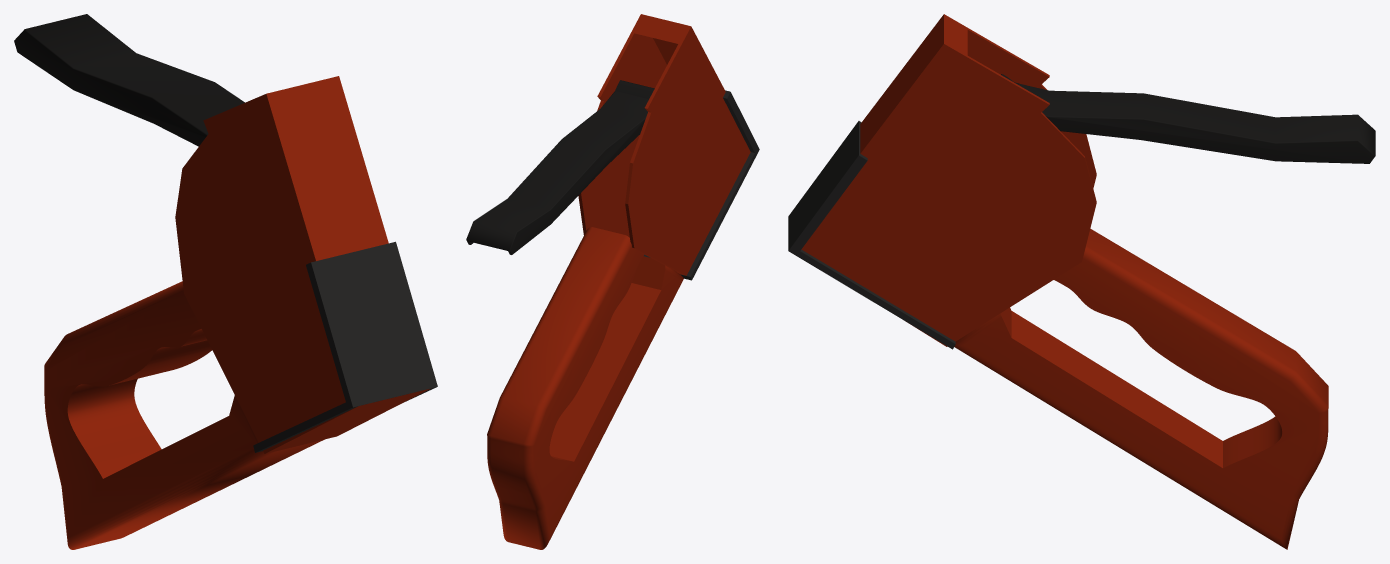
3 views of the same model, side by side, from view 1: azimuth 30°, elevation 25°; view 2: azimuth 150°, elevation 25°; view 3: azimuth 270°, elevation 25° (orthographic). The views are drawn at different scales.
Visible parts, largest first — view 1: housing, loop, shoe, lever; view 2: loop, housing, lever, shoe; view 3: housing, loop, lever, shoe.
Part boxes in pixels (x1,y1,x2,y2): housing: (175, 76, 430, 453); loop: (44, 281, 324, 549); shoe: (253, 241, 437, 452); lever: (14, 14, 244, 146); loop: (487, 227, 683, 549); housing: (578, 14, 750, 275); lever: (466, 80, 654, 254); shoe: (644, 90, 759, 280); housing: (801, 14, 1096, 346); loop: (954, 228, 1328, 549); lever: (1001, 74, 1375, 163); shoe: (788, 121, 955, 349).
Bounding box in the file's own units: 0.028 × 0.192 × 0.2.
